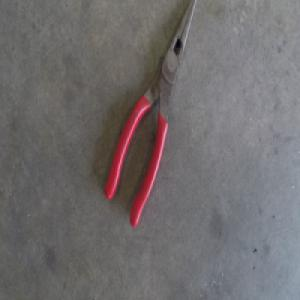Pliers: (105, 5, 195, 228)
